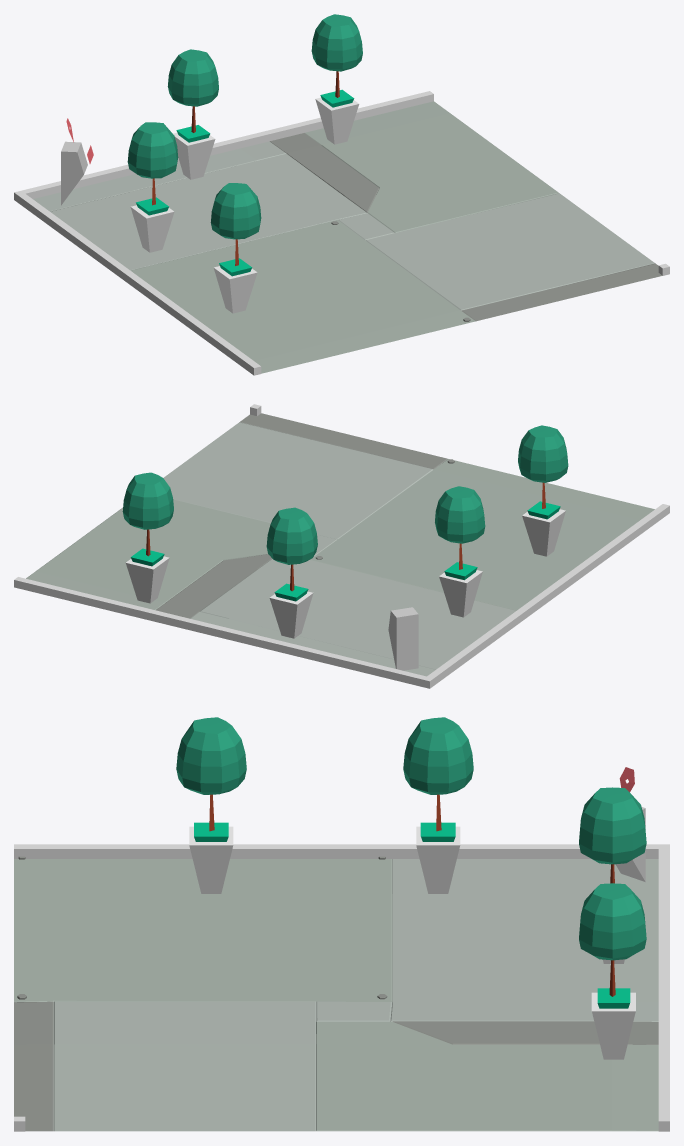
3 views of the same model, one above another, from view 1: azimuth 30°, elevation 25°; view 2: azimuth 150°, elevation 25°; view 3: azimuth 270°, elevation 25° (orthographic). The views are drawn at different scales.
Parts seen in each view (by area): view 1: Scifi_Panel_04_Plaza014_group4.036_Scifi_Panel_04_Plaza014_g, Cube.1034_Cube.1158, base_singlePot03.025_base_singlePot03.029, base_singlePot03.022_base_singlePot03.026, base_singlePot03.023_base_singlePot03.027, base_singlePot03.024_base_singlePot03.028, panel.010_panel.017; view 2: Scifi_Panel_04_Plaza014_group4.036_Scifi_Panel_04_Plaza014_g, Cube.1034_Cube.1158, base_singlePot03.025_base_singlePot03.029, base_singlePot03.024_base_singlePot03.028, base_singlePot03.023_base_singlePot03.027, base_singlePot03.022_base_singlePot03.026, panel.010_panel.017; view 3: Scifi_Panel_04_Plaza014_group4.036_Scifi_Panel_04_Plaza014_g, Cube.1034_Cube.1158, base_singlePot03.022_base_singlePot03.026, base_singlePot03.023_base_singlePot03.027, base_singlePot03.025_base_singlePot03.029, base_singlePot03.024_base_singlePot03.028, panel.010_panel.017.
Part boxes in pixels (x1=…): Scifi_Panel_04_Plaza014_group4.036_Scifi_Panel_04_Plaza014_g: x1=33, y1=101, x2=662, y2=373; Cube.1034_Cube.1158: x1=14, y1=91, x2=433, y2=375; base_singlePot03.025_base_singlePot03.029: x1=311, y1=14, x2=362, y2=144; base_singlePot03.022_base_singlePot03.026: x1=127, y1=122, x2=178, y2=252; base_singlePot03.023_base_singlePot03.027: x1=210, y1=183, x2=261, y2=313; base_singlePot03.024_base_singlePot03.028: x1=167, y1=49, x2=218, y2=179; panel.010_panel.017: x1=61, y1=118, x2=93, y2=205; Scifi_Panel_04_Plaza014_group4.036_Scifi_Panel_04_Plaza014_g: x1=26, y1=413, x2=654, y2=676; Cube.1034_Cube.1158: x1=14, y1=504, x2=669, y2=688; base_singlePot03.025_base_singlePot03.029: x1=122, y1=472, x2=173, y2=603; base_singlePot03.024_base_singlePot03.028: x1=266, y1=507, x2=317, y2=638; base_singlePot03.023_base_singlePot03.027: x1=518, y1=425, x2=568, y2=556; base_singlePot03.022_base_singlePot03.026: x1=435, y1=486, x2=485, y2=617; panel.010_panel.017: x1=388, y1=607, x2=418, y2=670; Scifi_Panel_04_Plaza014_group4.036_Scifi_Panel_04_Plaza014_g: x1=14, y1=856, x2=658, y2=1131; Cube.1034_Cube.1158: x1=14, y1=844, x2=669, y2=1131; base_singlePot03.022_base_singlePot03.026: x1=403, y1=717, x2=473, y2=893; base_singlePot03.023_base_singlePot03.027: x1=176, y1=717, x2=246, y2=893; base_singlePot03.025_base_singlePot03.029: x1=579, y1=883, x2=646, y2=1059; base_singlePot03.024_base_singlePot03.028: x1=579, y1=787, x2=646, y2=963; panel.010_panel.017: x1=615, y1=767, x2=645, y2=881.
Bounding box in the file's own units: 10 × 2.78 × 10.
